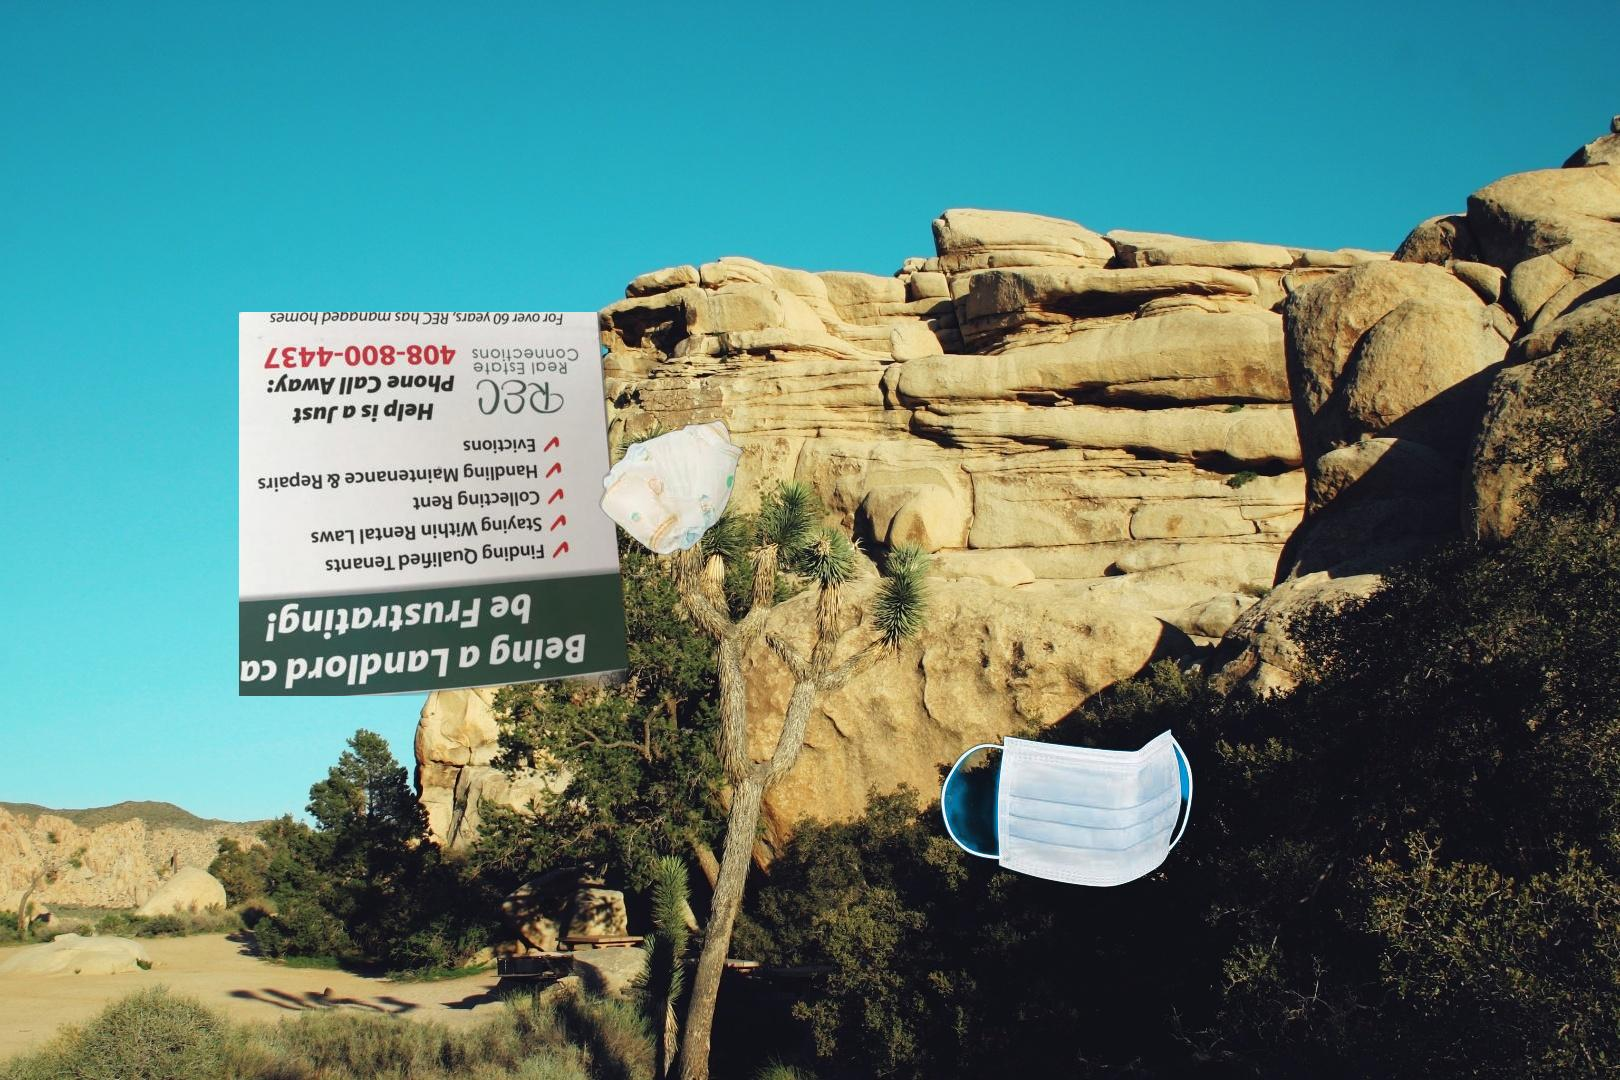paper: (239, 312, 634, 695)
trash: (937, 723, 1196, 890), (595, 418, 745, 558)
